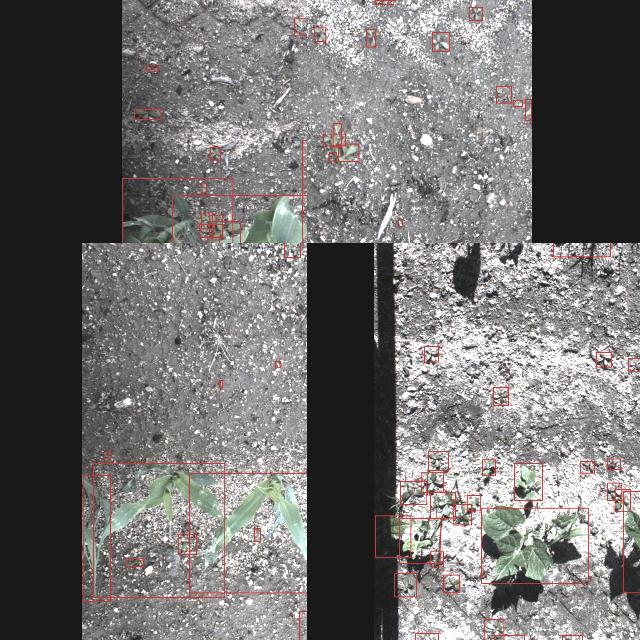crop: (92, 463, 224, 597), (189, 473, 307, 593), (482, 508, 588, 584), (121, 179, 232, 243), (172, 196, 307, 243), (82, 475, 110, 601), (623, 491, 640, 593), (375, 516, 411, 556)
weed: (400, 518, 440, 564), (514, 464, 542, 501), (553, 243, 611, 257), (399, 481, 426, 505), (430, 492, 454, 518), (212, 221, 240, 243), (394, 573, 416, 597), (421, 472, 443, 492), (452, 505, 472, 525), (484, 619, 503, 640), (428, 452, 448, 471), (432, 32, 450, 52), (339, 144, 359, 162), (178, 534, 196, 554), (615, 490, 631, 512), (496, 86, 512, 104), (492, 387, 508, 405), (606, 483, 622, 501), (443, 575, 459, 593), (200, 225, 222, 238), (210, 215, 222, 237), (323, 134, 345, 146), (134, 109, 160, 119), (596, 352, 612, 368), (294, 18, 307, 36), (284, 243, 300, 257), (424, 346, 438, 362), (467, 495, 481, 511), (332, 124, 342, 146), (314, 26, 326, 42), (482, 460, 494, 476), (431, 552, 444, 566), (366, 29, 376, 47), (414, 633, 437, 640), (202, 213, 212, 229), (470, 7, 482, 20), (628, 358, 640, 371), (126, 558, 144, 566), (580, 462, 594, 472), (608, 458, 620, 469), (210, 148, 220, 160), (526, 100, 532, 120), (562, 635, 582, 640), (254, 528, 260, 542), (374, 0, 394, 4), (329, 152, 337, 162), (146, 66, 158, 72), (207, 237, 219, 243), (514, 101, 522, 107), (104, 452, 110, 458), (202, 184, 206, 192), (398, 220, 402, 227), (220, 380, 222, 388), (276, 362, 280, 366)
